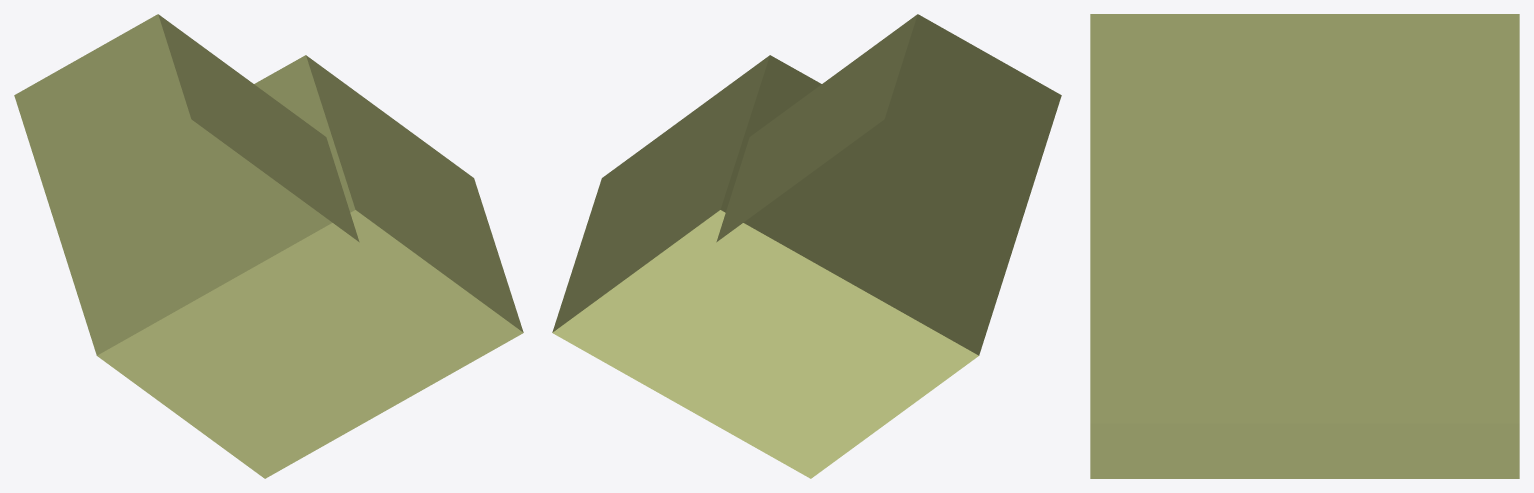
3 views of the same model, side by side, from view 1: azimuth 30°, elevation 25°; view 2: azimuth 150°, elevation 25°; view 3: azimuth 270°, elevation 25° (orthographic). The views are drawn at different scales.
Visible parts, largest first — view 1: 0_0_1_3_2_2_2_0_1_0; view 2: 0_0_1_3_2_2_2_0_1_0; view 3: 0_0_1_3_2_2_2_0_1_0.
Part boxes in pixels (x1=…): 0_0_1_3_2_2_2_0_1_0: x1=14, y1=14, x2=523, y2=478; 0_0_1_3_2_2_2_0_1_0: x1=552, y1=14, x2=1061, y2=478; 0_0_1_3_2_2_2_0_1_0: x1=1090, y1=14, x2=1519, y2=478.
Bounding box in the file's own units: 10.54 × 9.65 × 9.
